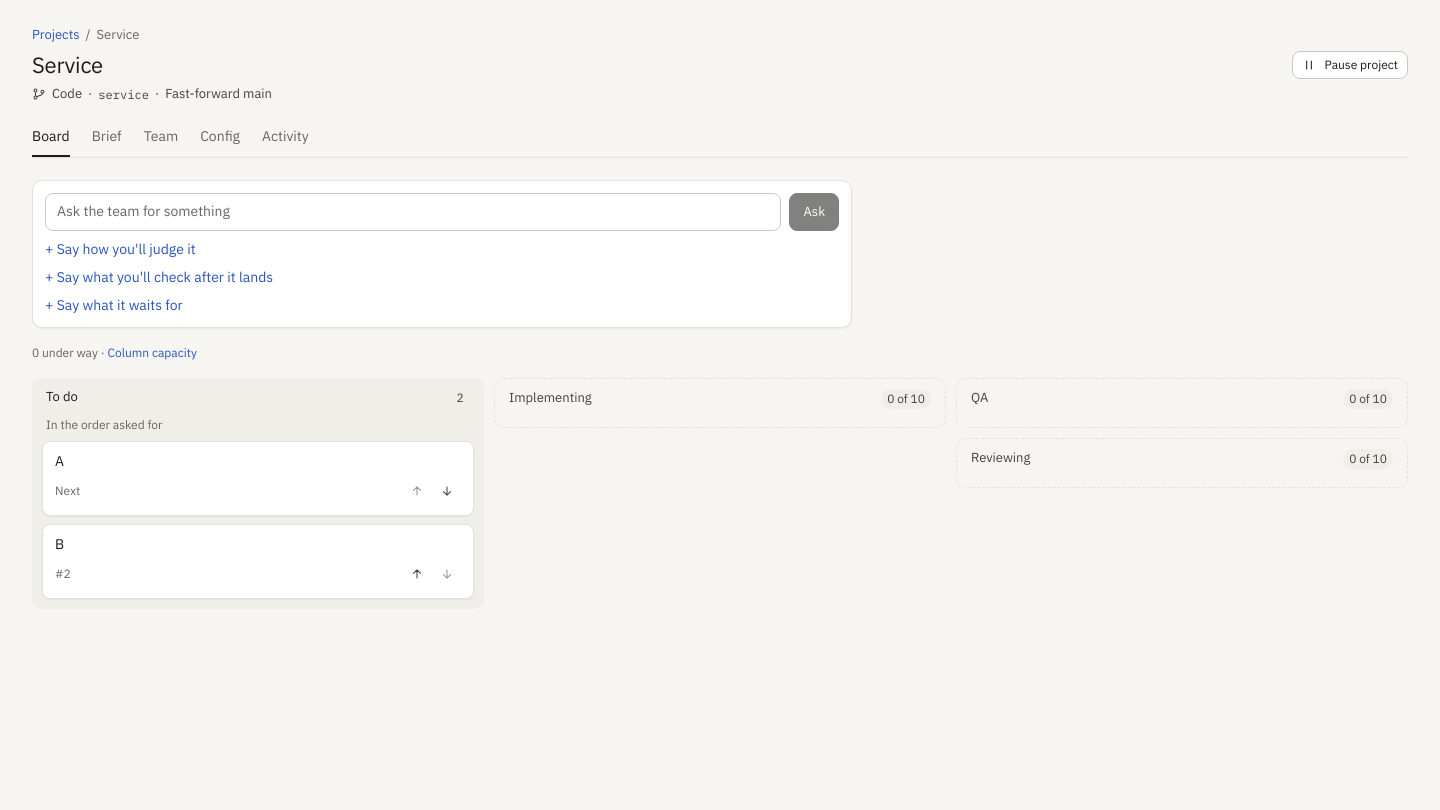
it: the board › fetches the current to-do list when a reorder is refused
What coordinates should you click on to do the following:
click the button named "Move “B” up"
I would click on:
 (417, 574)
Its box is [403,560,431,588].
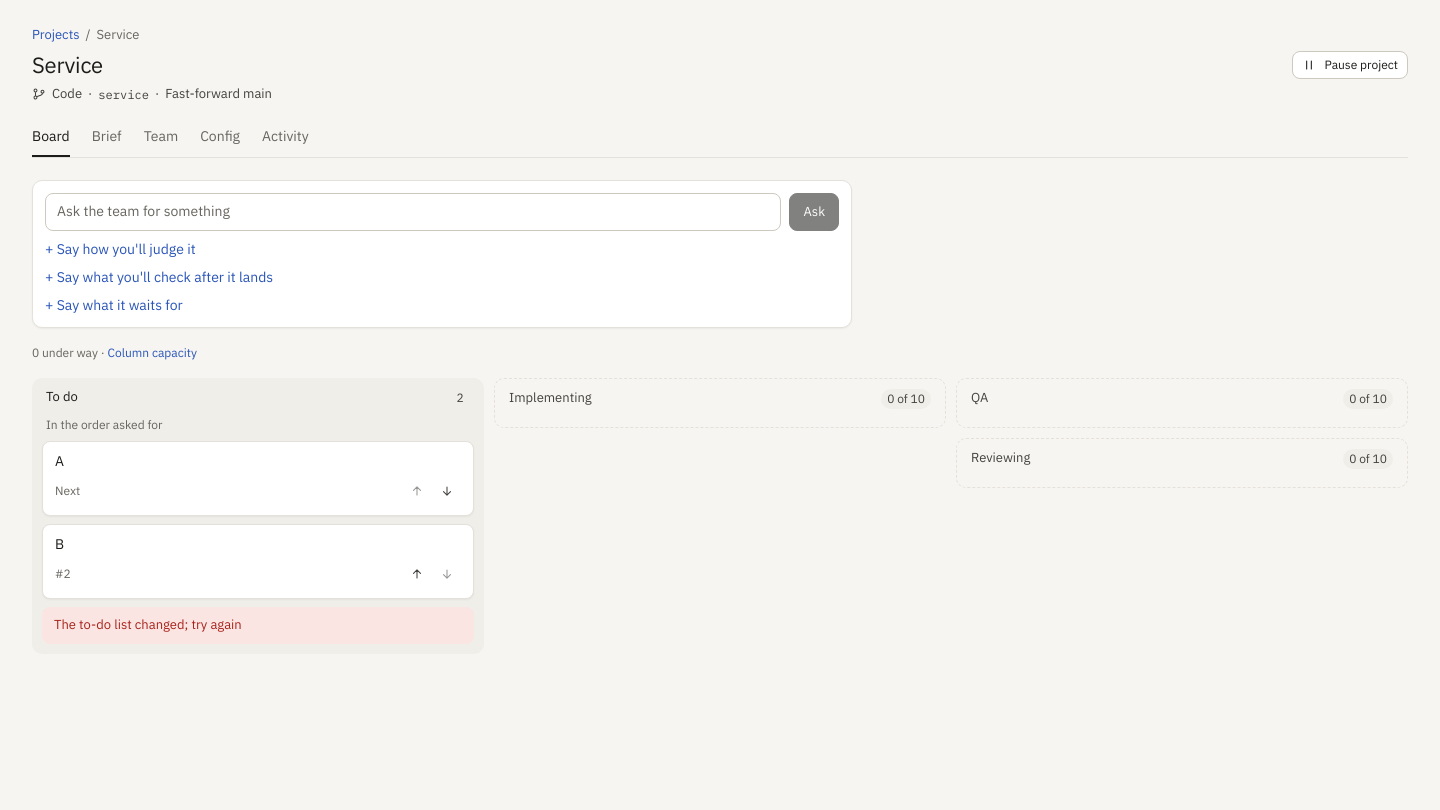
expect the message reads "The to-do list changed; try again": met, box [54,616,242,633]
